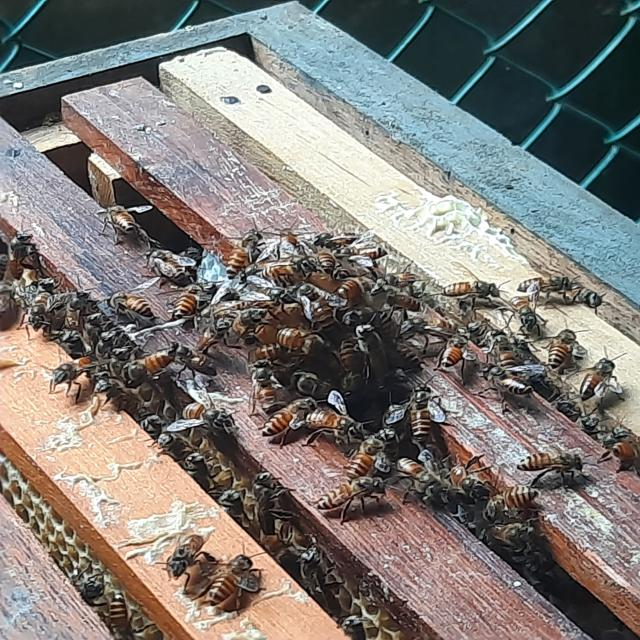honeybee: (392, 384, 445, 444), (205, 552, 257, 608), (306, 404, 367, 451), (398, 456, 443, 518), (322, 476, 382, 519), (521, 445, 579, 489), (221, 227, 265, 284), (265, 391, 318, 438), (446, 458, 486, 520), (182, 398, 238, 442), (247, 472, 286, 534), (577, 354, 622, 407), (12, 288, 65, 332), (121, 346, 176, 386), (261, 316, 316, 356), (436, 321, 478, 373), (486, 485, 541, 524), (166, 342, 218, 383), (164, 536, 205, 588), (47, 354, 93, 399), (103, 291, 157, 329), (508, 294, 546, 344), (146, 246, 190, 288), (95, 371, 138, 413), (349, 434, 383, 486), (298, 286, 339, 328), (289, 368, 329, 411), (487, 366, 526, 410), (442, 278, 499, 308), (266, 256, 310, 294), (297, 541, 326, 598), (100, 203, 142, 242), (249, 362, 280, 414), (334, 315, 360, 373), (269, 220, 306, 260), (228, 304, 264, 344), (500, 521, 537, 559), (371, 425, 398, 477), (558, 278, 601, 310), (603, 438, 640, 475), (486, 328, 517, 372), (200, 317, 230, 361), (548, 328, 575, 376), (105, 591, 131, 640), (85, 297, 110, 346), (168, 280, 199, 319), (310, 228, 358, 253), (390, 285, 424, 320), (524, 352, 552, 393), (61, 279, 83, 331), (9, 234, 32, 283), (339, 270, 368, 308), (385, 336, 420, 367), (183, 452, 212, 488), (462, 312, 490, 349), (333, 260, 374, 285), (378, 268, 419, 293), (520, 278, 571, 298), (212, 274, 244, 305), (98, 333, 128, 366), (340, 242, 384, 264), (140, 410, 164, 442), (157, 433, 185, 459), (379, 306, 398, 344), (278, 297, 305, 322), (339, 612, 364, 636), (253, 342, 281, 362), (561, 389, 579, 417), (575, 414, 594, 437)
